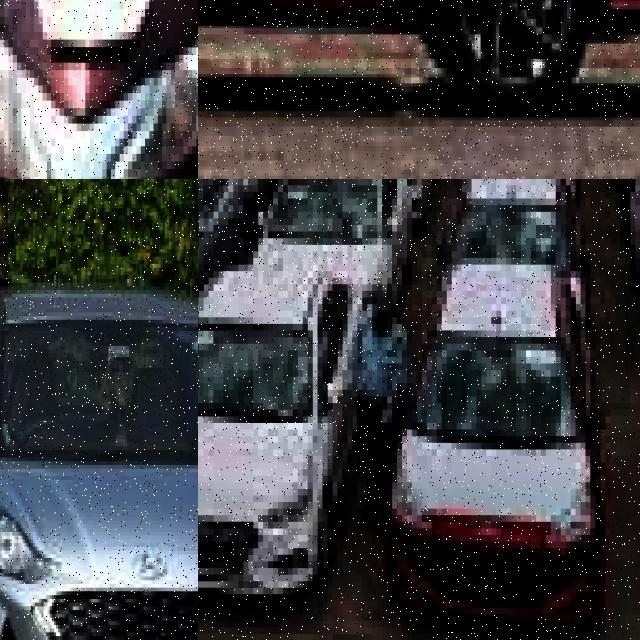bike: (0, 0, 198, 179)
car: (384, 265, 622, 634), (198, 0, 640, 166), (198, 271, 325, 640)
